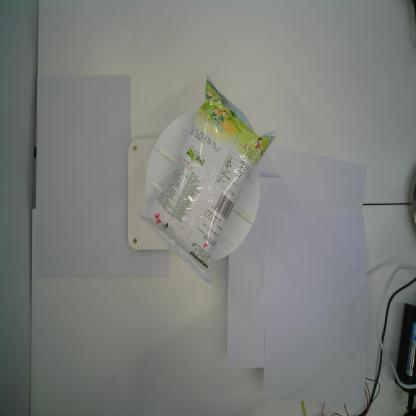Puffed Food: (137, 74, 277, 285)
